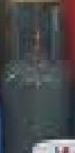cylinder: (1, 1, 75, 153)
